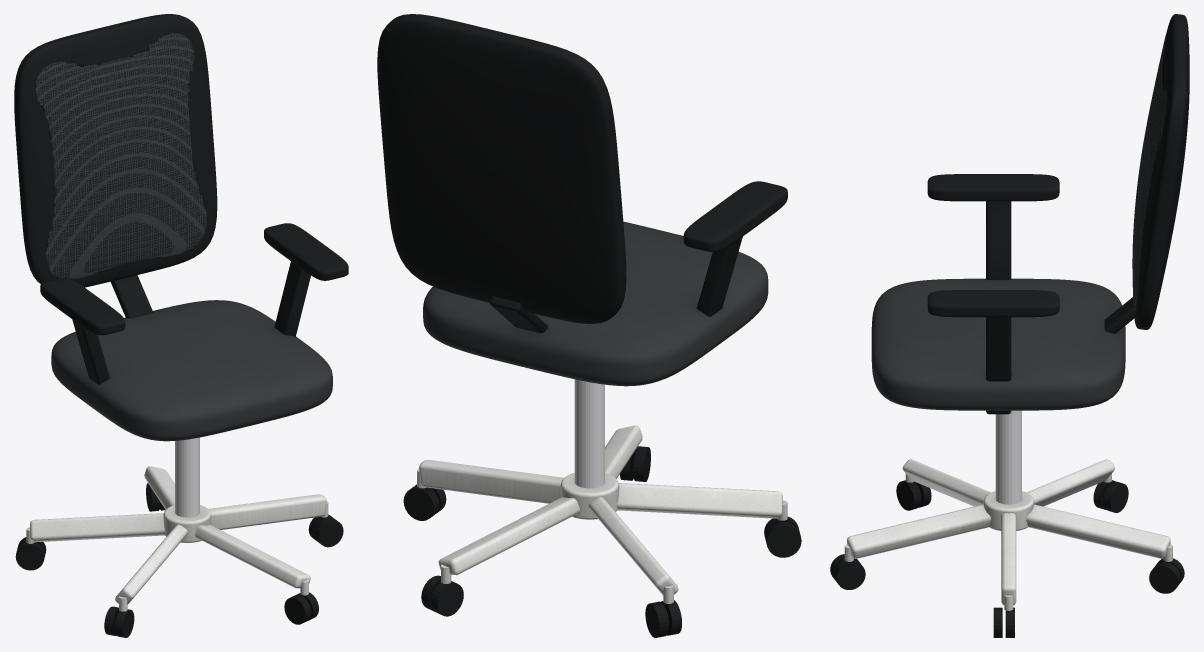
File: mesh-white-frame.glb
3 views of the same model, side by side, from view 1: azimuth 30°, elevation 25°; view 2: azimuth 150°, elevation 25°; view 3: azimuth 270°, elevation 25° (orthographic). The views are drawn at different scales.
Parts seen in each view (by area): view 1: mesh_fabric, plastic_black, fabric_primary, metal_frame, chrome; view 2: plastic_black, fabric_primary, metal_frame, chrome; view 3: fabric_primary, plastic_black, metal_frame, mesh_fabric, chrome.
Boxes of the visible parts, x1,y1,x2,y2 form: mesh_fabric: (35,33,206,279); plastic_black: (14,14,348,637); fabric_primary: (51,300,332,441); metal_frame: (26,466,328,611); chrome: (175,437,199,517); plastic_black: (377,14,801,637); fabric_primary: (423,221,768,386); metal_frame: (417,425,787,603); chrome: (574,379,604,488); fabric_primary: (871,278,1125,410); plastic_black: (830,14,1189,637); metal_frame: (844,459,1172,610); mesh_fabric: (1132,31,1167,313); chrome: (995,410,1021,504).
Bounding box in the file's own units: 0.67 × 1.13 × 0.7078.
Materials: 5 (4 with a texture image).
